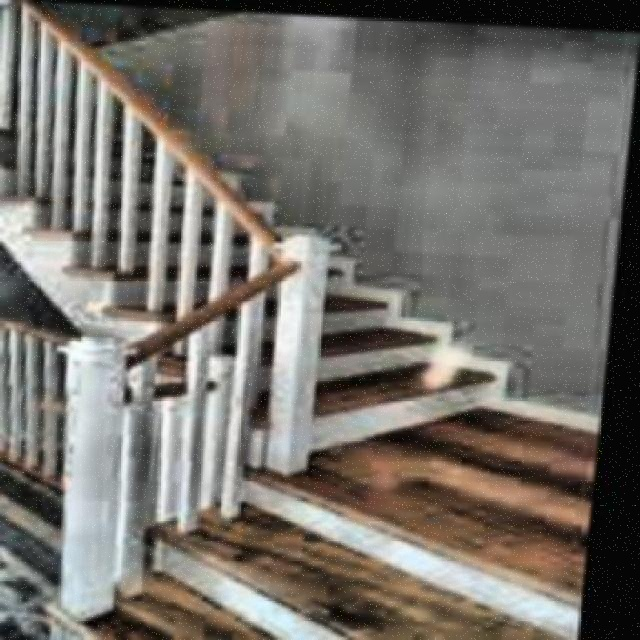stair: (0, 50, 543, 433), (0, 458, 600, 638)
